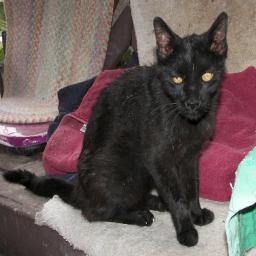catnose: (185, 99, 202, 113)
